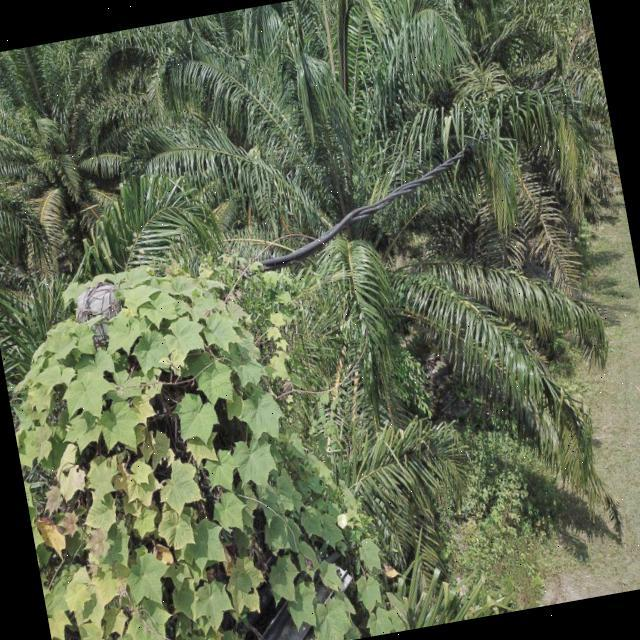critical vegetation: (0, 221, 386, 640)
